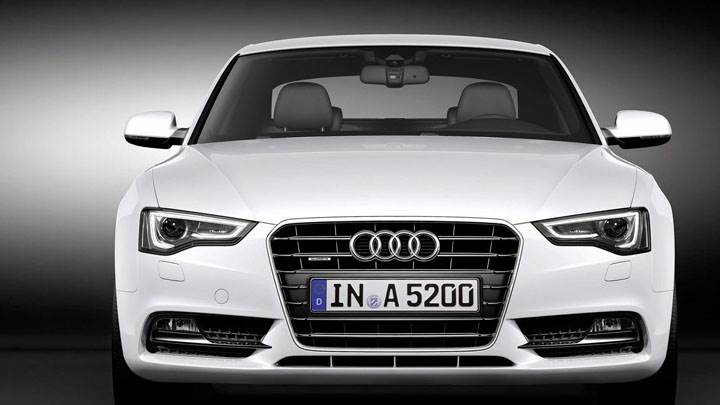audi: (340, 229, 448, 266)
